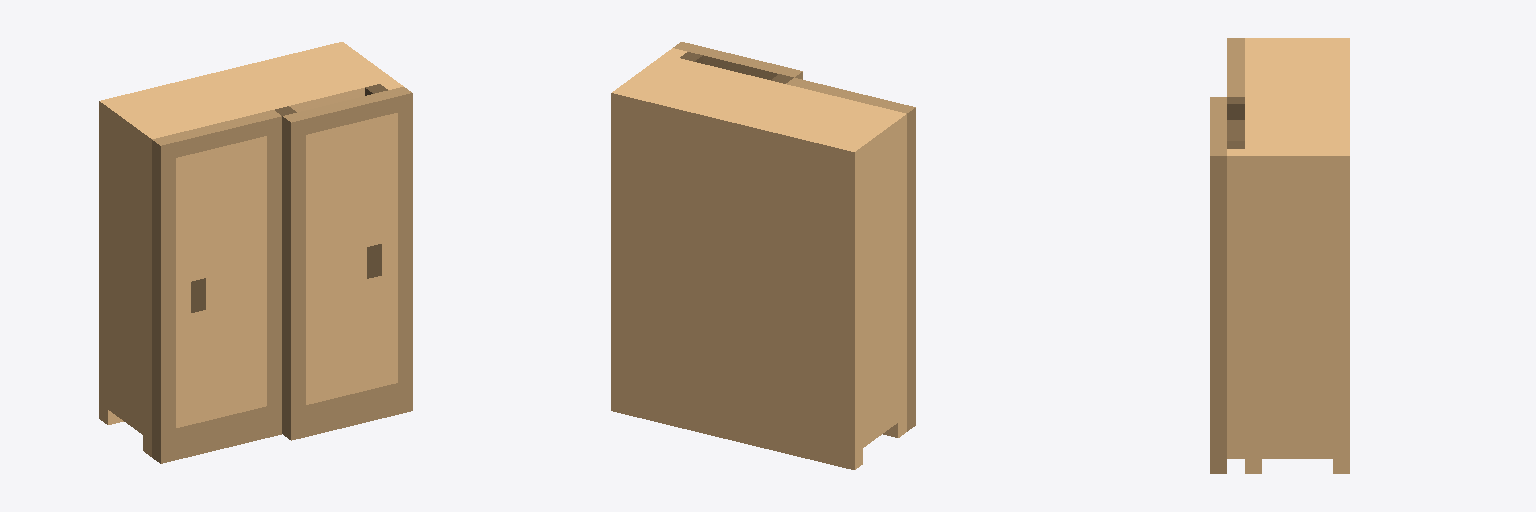
3 views of the same model, side by side, from view 1: azimuth 30°, elevation 25°; view 2: azimuth 150°, elevation 25°; view 3: azimuth 270°, elevation 25° (orthographic).
Visible parts, largest first — view 1: closet1; view 2: closet1; view 3: closet1.
Part boxes in pixels (left/top/right/bottom): closet1: left=99, top=42, right=412, bottom=463; closet1: left=611, top=42, right=915, bottom=469; closet1: left=1210, top=38, right=1349, bottom=473.
Bounding box in the file's own units: 16 × 20 × 8.
1 materials, 1 textured.